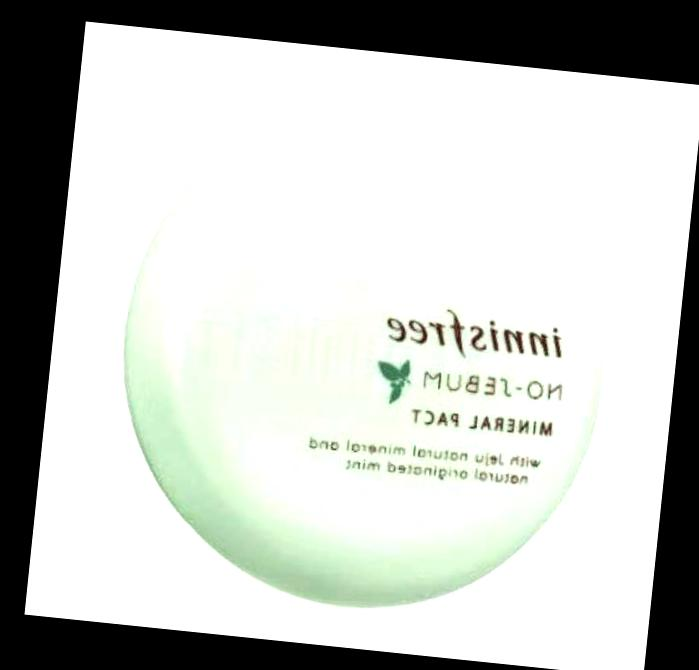cosmetic: (93, 83, 632, 634)
